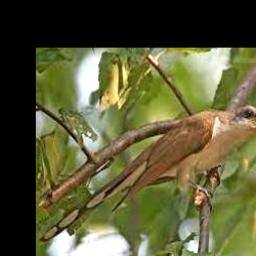Cuckoo: (39, 105, 256, 242)
